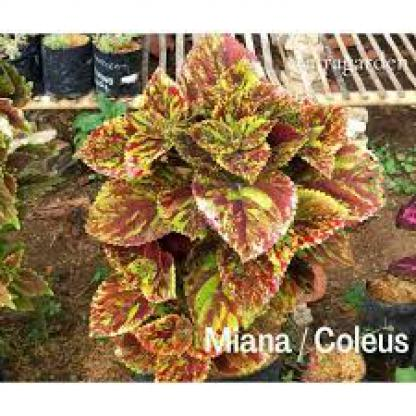Bunga Coleus: (69, 71, 384, 306)
